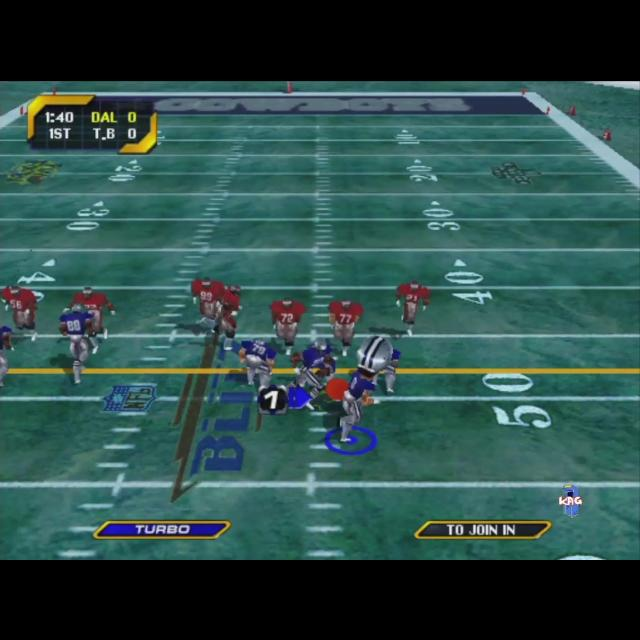player: (338, 334, 392, 442), (284, 339, 338, 409), (58, 302, 98, 382), (69, 286, 115, 354), (328, 298, 364, 357), (270, 297, 306, 355), (1, 284, 37, 342), (238, 338, 278, 390), (396, 280, 430, 336), (214, 284, 242, 350), (190, 276, 226, 326), (369, 346, 401, 392), (0, 325, 14, 387)
